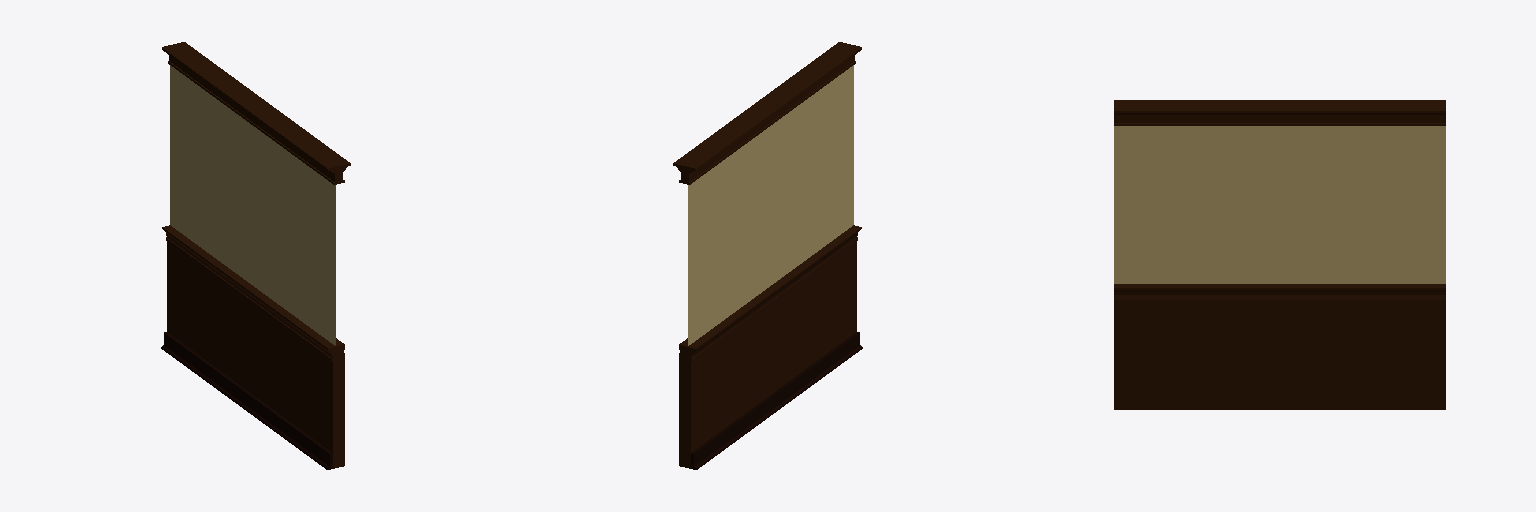
Rendered from SM_Wall_001.obj.
The picture shows the model from 3 angles: view 1: azimuth 30°, elevation 25°; view 2: azimuth 150°, elevation 25°; view 3: azimuth 270°, elevation 25°; orthographic projection.
Visible parts, largest first — view 1: pCube107; view 2: pCube107; view 3: pCube107.
Part boxes in pixels (x1,y1,x2,y2): pCube107: (161, 42, 350, 469); pCube107: (673, 42, 862, 469); pCube107: (1114, 100, 1445, 409).
Size of the model in its own units: 24.5 by 305 by 305.